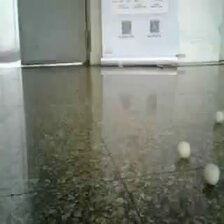w: (202, 163, 219, 184), (177, 141, 191, 158), (214, 111, 224, 122)
